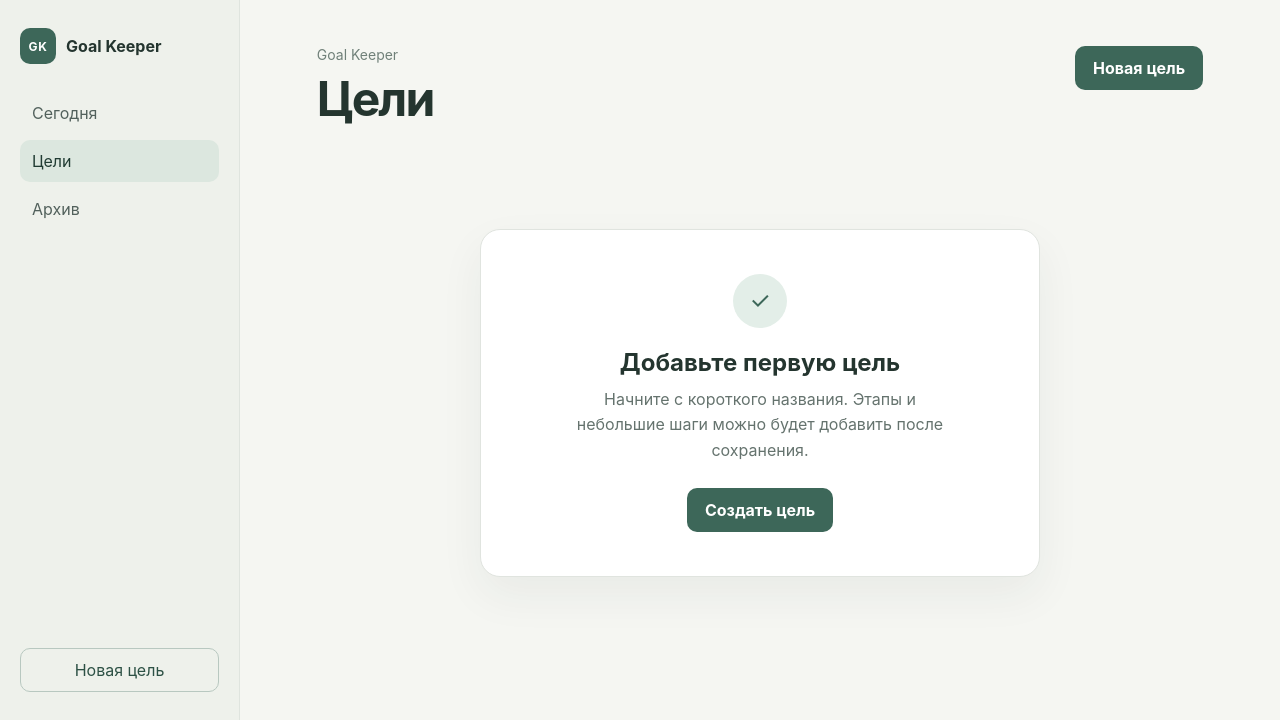
Test: App › сохраняет введённые данные при ошибке записи
Click the button "Создать цель": point(760, 510) top-left (687, 488), bottom-right (833, 532)
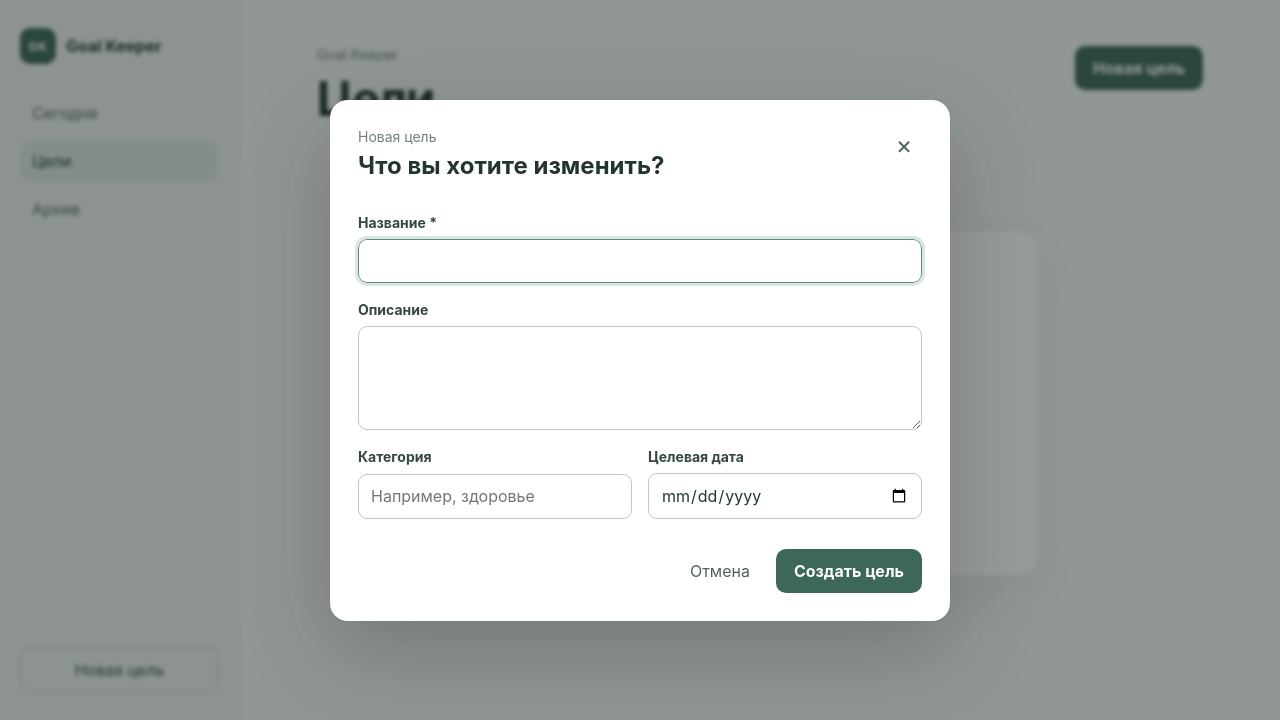
In the field labelled "Название *": point(640, 260) top-left (358, 238), bottom-right (922, 282), type "Важная цель"
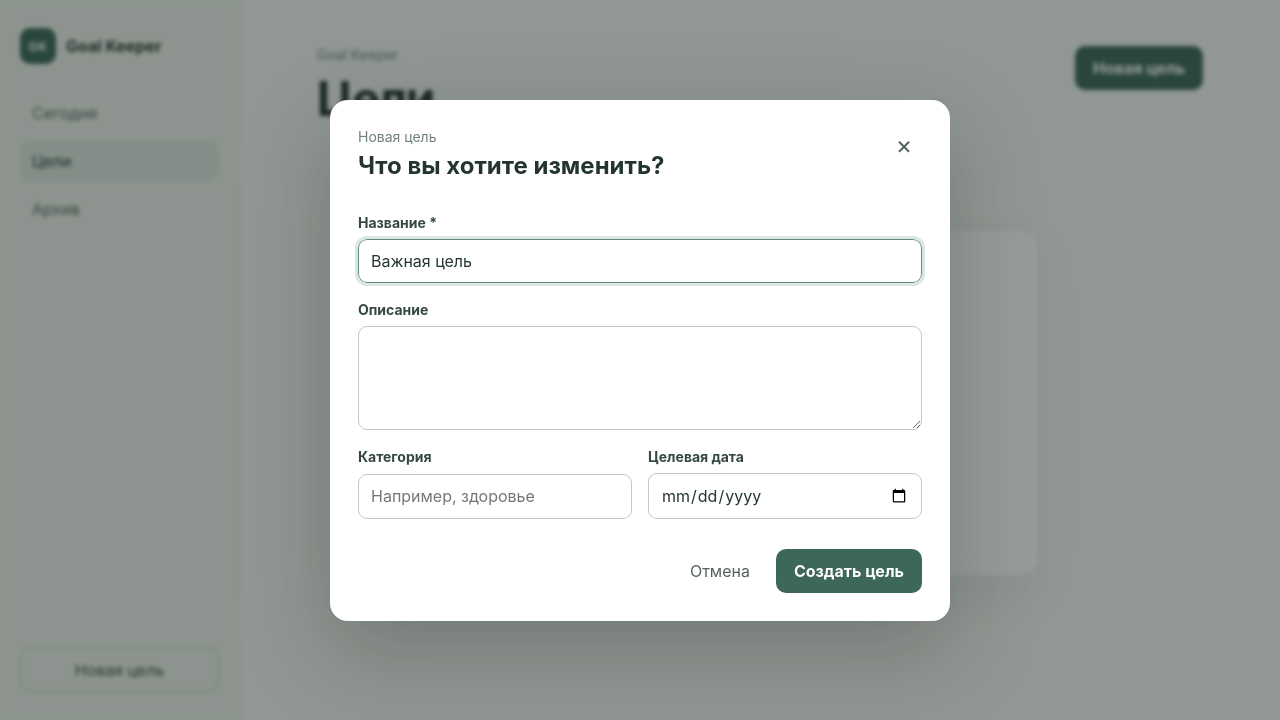
Click the button "Создать цель": point(849, 570) top-left (776, 548), bottom-right (922, 592)
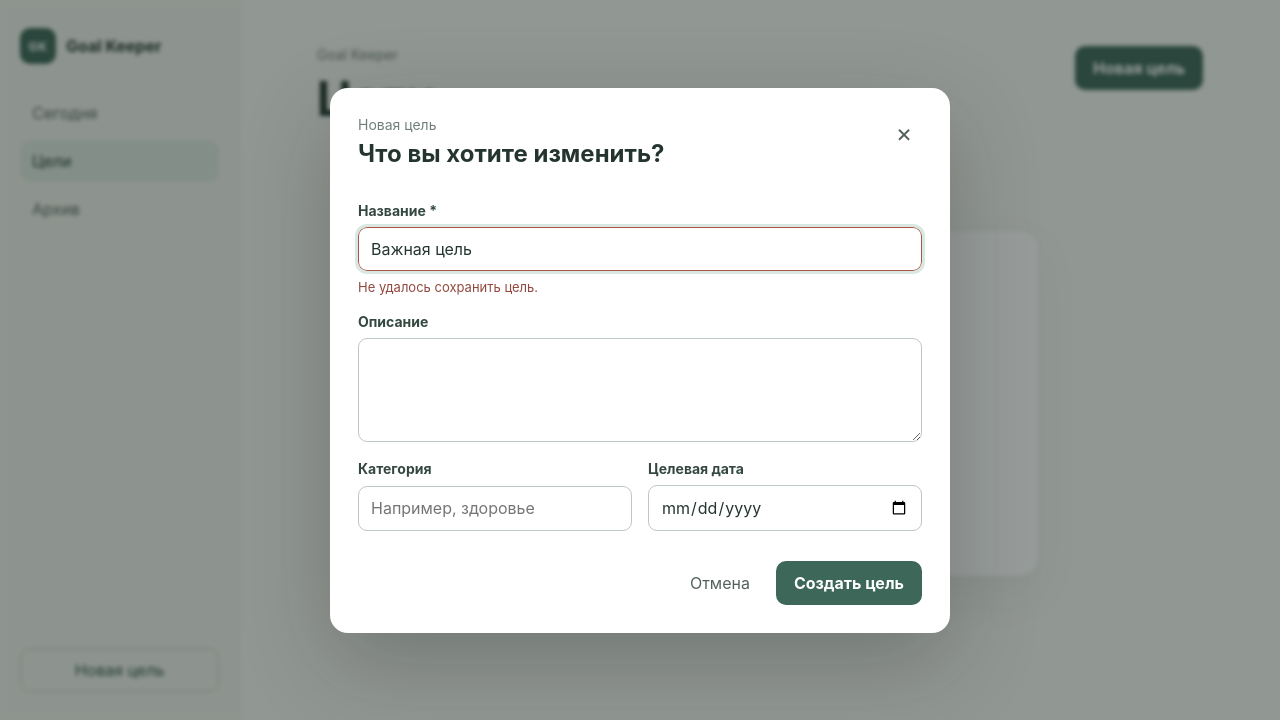
Check: the message reads "Не удалось сохранить цель.", box top-left (358, 278), bottom-right (538, 294)
